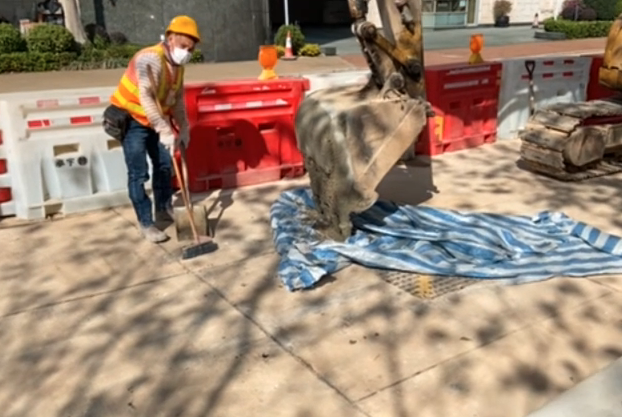Hard Hat: (165, 16, 201, 64)
Person: (111, 17, 202, 243)
Vest: (112, 39, 185, 129)
